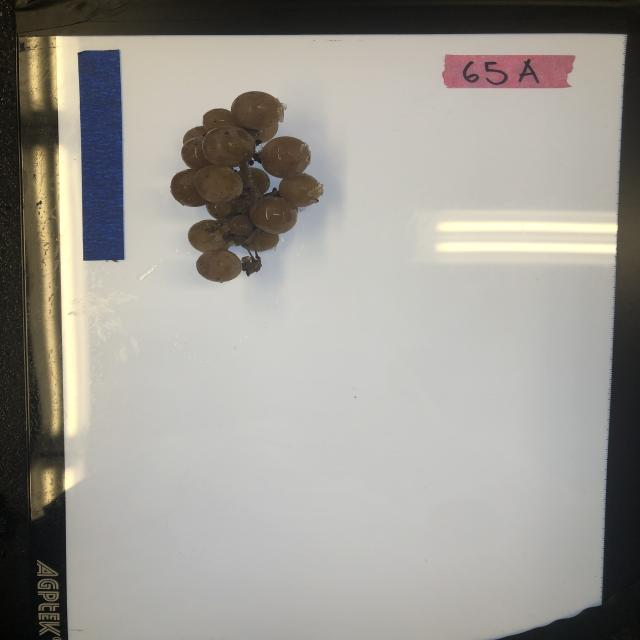grape_cluster: (166, 88, 328, 284)
index: (441, 53, 579, 89)
measure_label: (76, 48, 128, 262)
